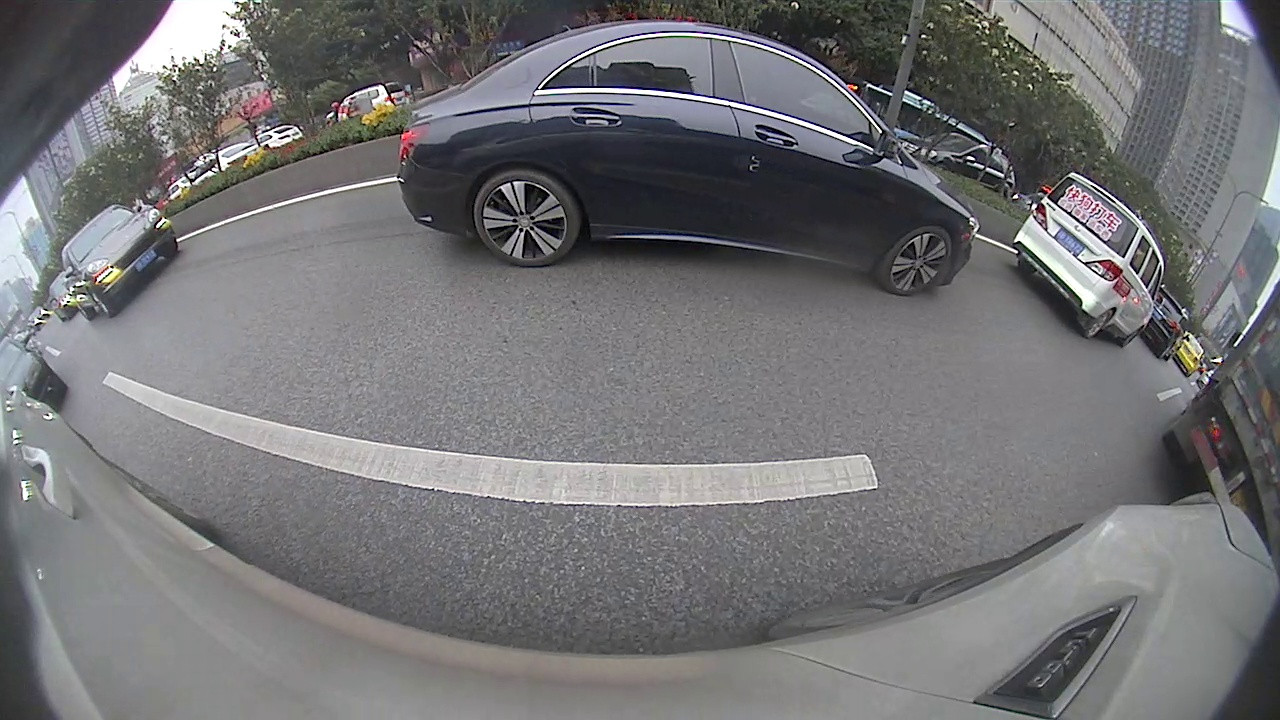car: (1, 274, 224, 478), (687, 131, 853, 229), (443, 155, 543, 216), (586, 139, 654, 200), (532, 154, 579, 192)
front: (110, 325, 201, 420), (687, 178, 698, 205)
rear: (716, 179, 737, 223), (508, 187, 520, 209)
